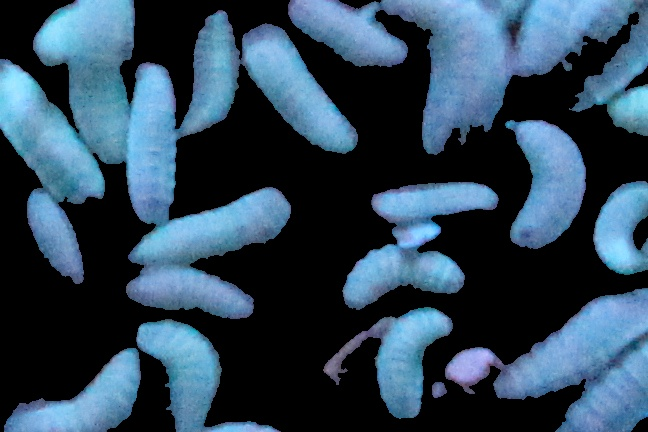larvae: (379, 1, 516, 154), (493, 291, 648, 393), (243, 23, 356, 152), (1, 57, 103, 199), (127, 194, 293, 266), (4, 351, 139, 429), (510, 120, 587, 248), (139, 319, 225, 432), (122, 62, 182, 217), (290, 1, 405, 80), (173, 14, 245, 137), (374, 311, 454, 414), (58, 52, 130, 166), (562, 342, 648, 427), (124, 267, 255, 322), (343, 252, 462, 304), (19, 194, 84, 284), (593, 178, 645, 274), (365, 185, 499, 221)
